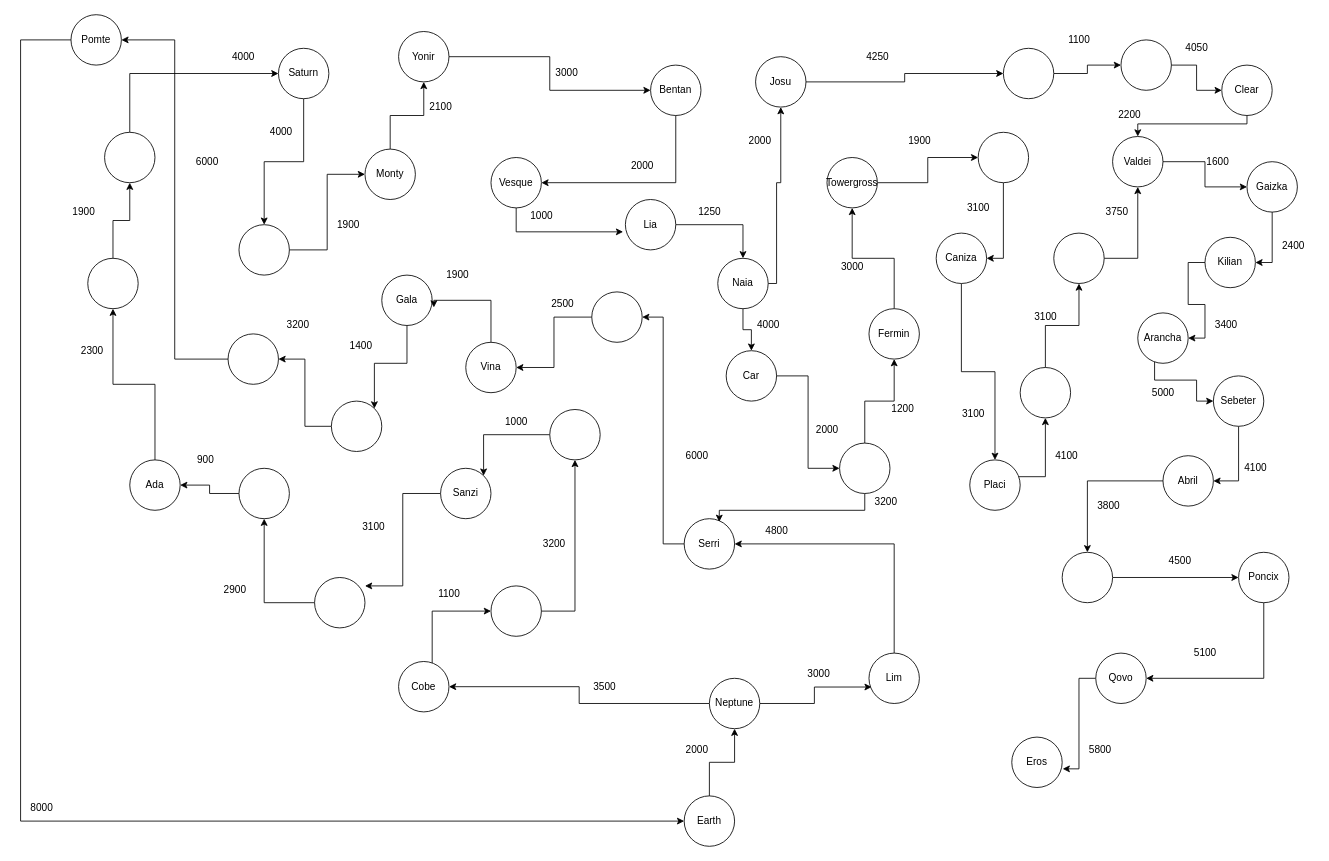
This 1329x861 diagram has some shape labels left out. Here are the shapes that lost their labels. From the top down, the box of each, then its label:
(1003, 47, 1054, 99): Abreu
(1120, 39, 1171, 90): Stivo
(104, 131, 155, 183): Mars
(977, 131, 1029, 183): Monagud
(238, 224, 289, 275): Whine
(1053, 232, 1104, 284): Marco
(87, 257, 138, 309): Venus
(591, 291, 642, 342): Mout
(227, 333, 278, 384): Fuster
(1019, 367, 1071, 418): Newing
(331, 400, 382, 452): Kepler32
(549, 409, 600, 460): Baste
(839, 442, 890, 494): Dina
(238, 467, 289, 519): Ribec
(1061, 551, 1113, 603): Yoel
(314, 577, 365, 628): Lluc
(490, 585, 541, 636): Portiri
